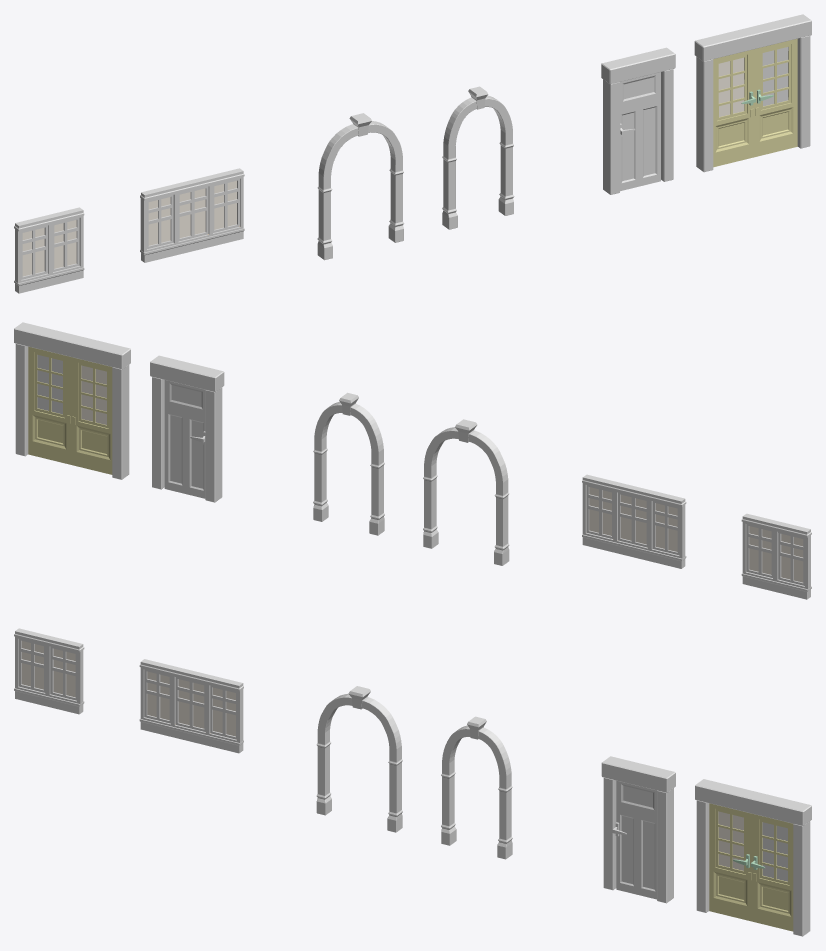
File: armacoes.fbx
3 renders of one model, top to bottom at view 1: azimuth 30°, elevation 25°; view 2: azimuth 150°, elevation 25°; view 3: azimuth 330°, elevation 25°, orthographic.
Visible parts, largest first — view 1: Armação Porta.001, Janela G, Armação Porta, Porta, Arco passagem G, Porta.001, Janela P, Arco passagem P, Porta.002, vidro porta 1, vrdro porta 2, vidro porta 1.004 (+4 smaller); view 2: Armação Porta.001, Janela G, Armação Porta, Porta, Arco passagem G, Janela P, Porta.001, Arco passagem P, Porta.002, vidro porta 1, vrdro porta 2, vidro porta 1.004 (+4 smaller); view 3: Armação Porta.001, Janela G, Armação Porta, Porta, Arco passagem G, Porta.002, Janela P, Arco passagem P, Porta.001, vrdro porta 2, vidro porta 1, vidro porta 1.004 (+4 smaller).
Boxes of the visible parts, <box> form: Armação Porta.001: <box>694,14,811,172</box>; Janela G: <box>140,168,244,262</box>; Armação Porta: <box>601,47,675,194</box>; Porta: <box>620,72,660,191</box>; Arco passagem G: <box>317,113,404,260</box>; Porta.001: <box>754,38,797,157</box>; Janela P: <box>14,207,84,293</box>; Arco passagem P: <box>442,86,514,229</box>; Porta.002: <box>713,49,756,167</box>; vidro porta 1: <box>718,57,744,116</box>; vrdro porta 2: <box>762,47,788,106</box>; vidro porta 1.004: <box>179,188,205,237</box>; Armação Porta.001: <box>14,322,130,479</box>; Janela G: <box>582,474,686,568</box>; Armação Porta: <box>150,355,224,502</box>; Porta: <box>164,380,205,498</box>; Arco passagem G: <box>423,419,509,565</box>; Janela P: <box>741,513,811,599</box>; Porta.001: <box>28,346,71,464</box>; Arco passagem P: <box>313,392,384,535</box>; Porta.002: <box>71,357,112,474</box>; vidro porta 1: <box>81,365,106,424</box>; vrdro porta 2: <box>37,354,62,414</box>; vidro porta 1.004: <box>620,494,646,544</box>; Armação Porta.001: <box>695,779,811,936</box>; Janela G: <box>139,659,243,753</box>; Armação Porta: <box>601,756,675,903</box>; Porta: <box>612,780,656,899</box>; Arco passagem G: <box>316,686,402,832</box>; Porta.002: <box>709,803,752,921</box>; Janela P: <box>14,628,84,714</box>; Arco passagem P: <box>441,716,512,859</box>; Porta.001: <box>750,814,793,931</box>; vrdro porta 2: <box>762,822,787,881</box>; vidro porta 1: <box>718,811,743,870</box>; vidro porta 1.004: <box>178,679,204,728</box>.
Size of the model in its own units: 21709 by 3595 by 481.
